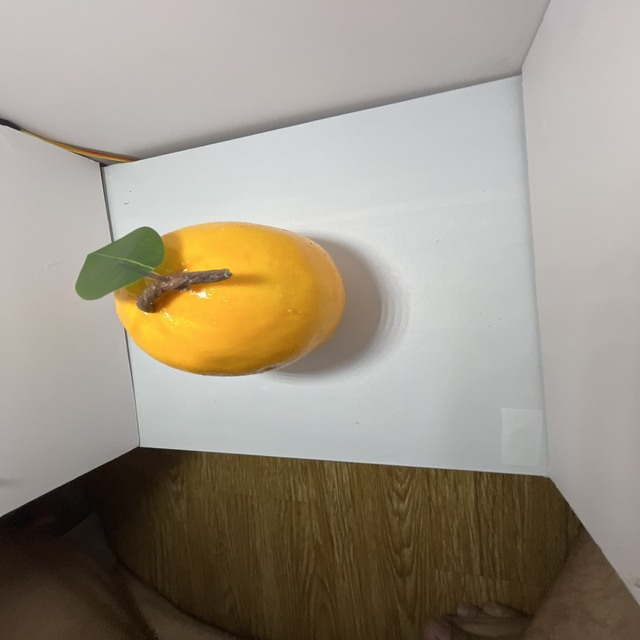Cam vang: (99, 216, 349, 378)
